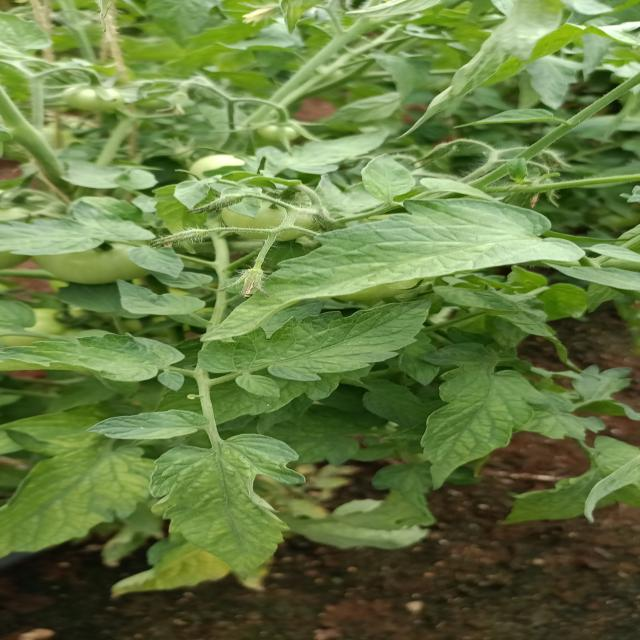Healthy Leaf: (190, 194, 604, 347), (162, 444, 316, 603), (409, 351, 550, 484), (1, 315, 178, 393)
